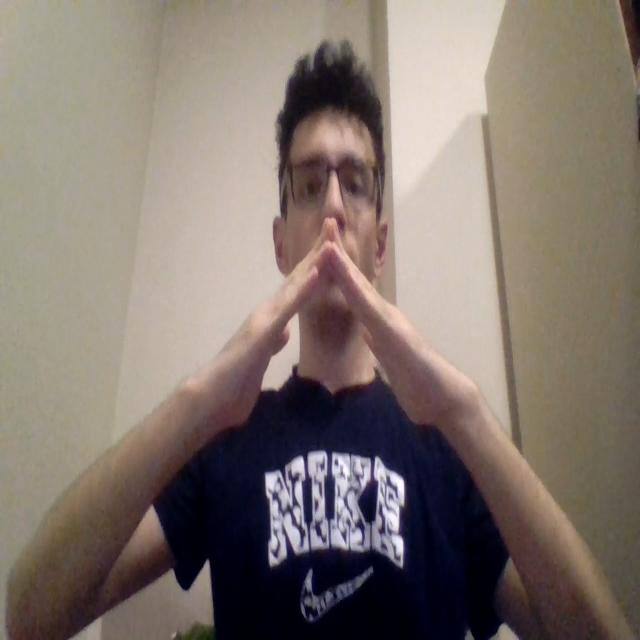house: (214, 219, 451, 417)
